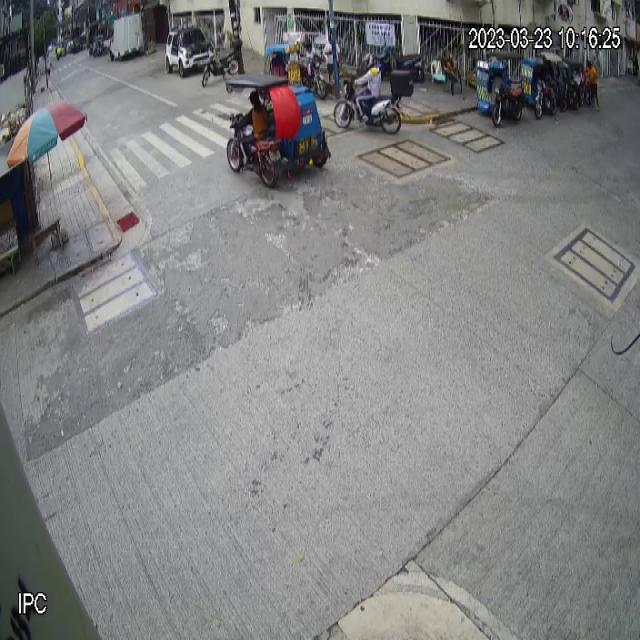Motorcycle: (334, 70, 414, 135)
Tricycle: (225, 72, 330, 187), (476, 49, 524, 128), (522, 50, 563, 120)
